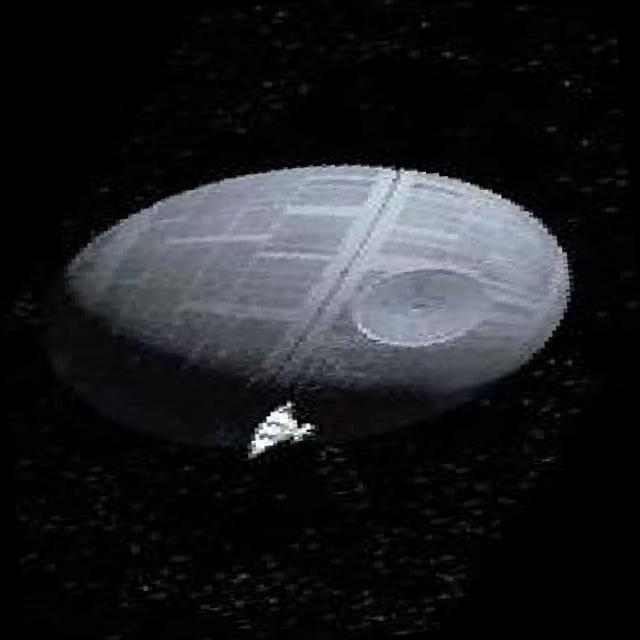Death Star: (39, 135, 594, 478)
